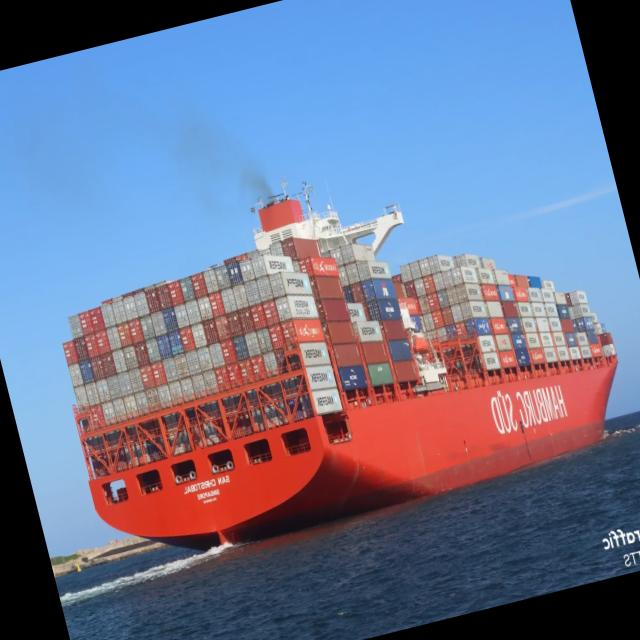Cargo: (63, 198, 617, 550)
